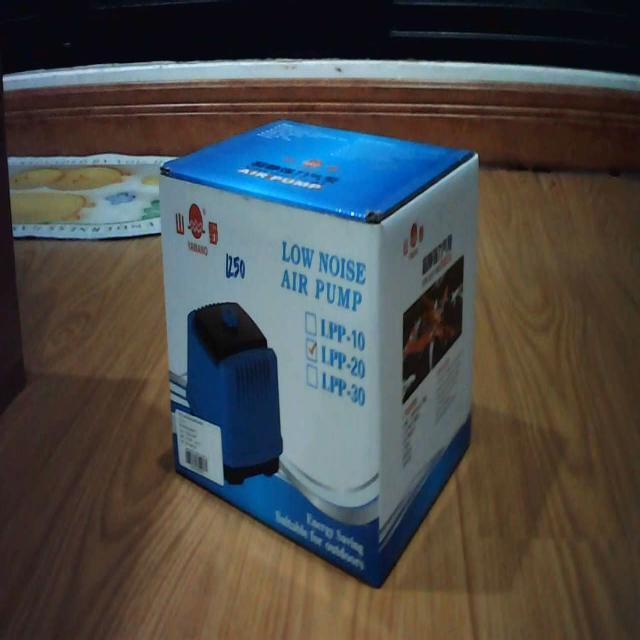YAMANO_LPP_20: (153, 101, 488, 603)
